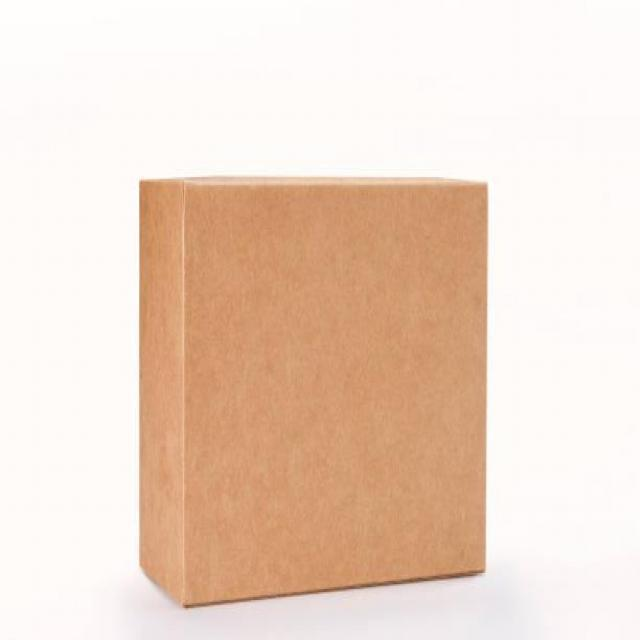box: (133, 154, 490, 606)
